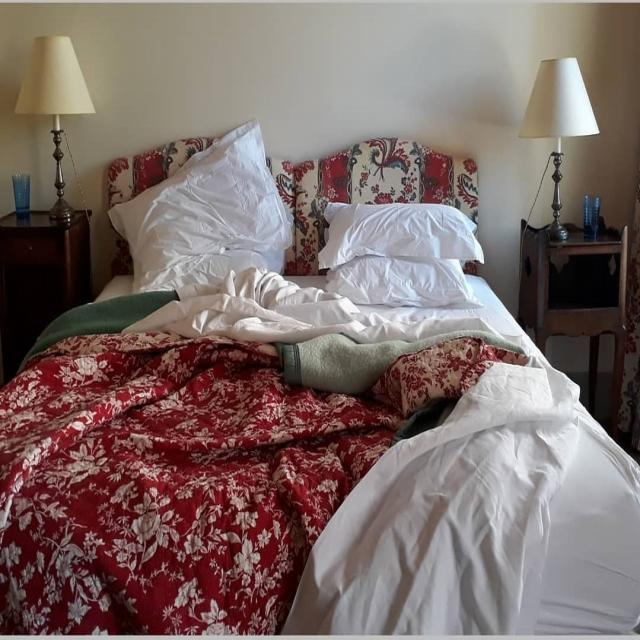bed: (0, 124, 629, 614)
